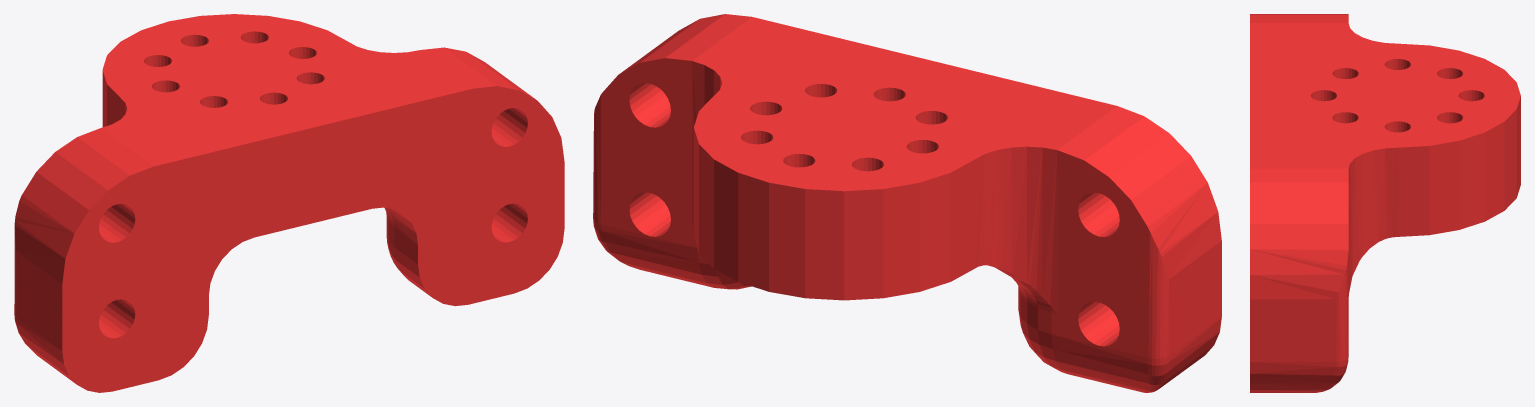
File: T200_bracket_06_T200_bracket.obj
3 renders of one model, left to right at view 1: azimuth 30°, elevation 25°; view 2: azimuth 150°, elevation 25°; view 3: azimuth 270°, elevation 25°, orthographic. The views are drawn at different scales.
Bounding box in the file's own units: 0.0698 × 0.0286 × 0.0349.
